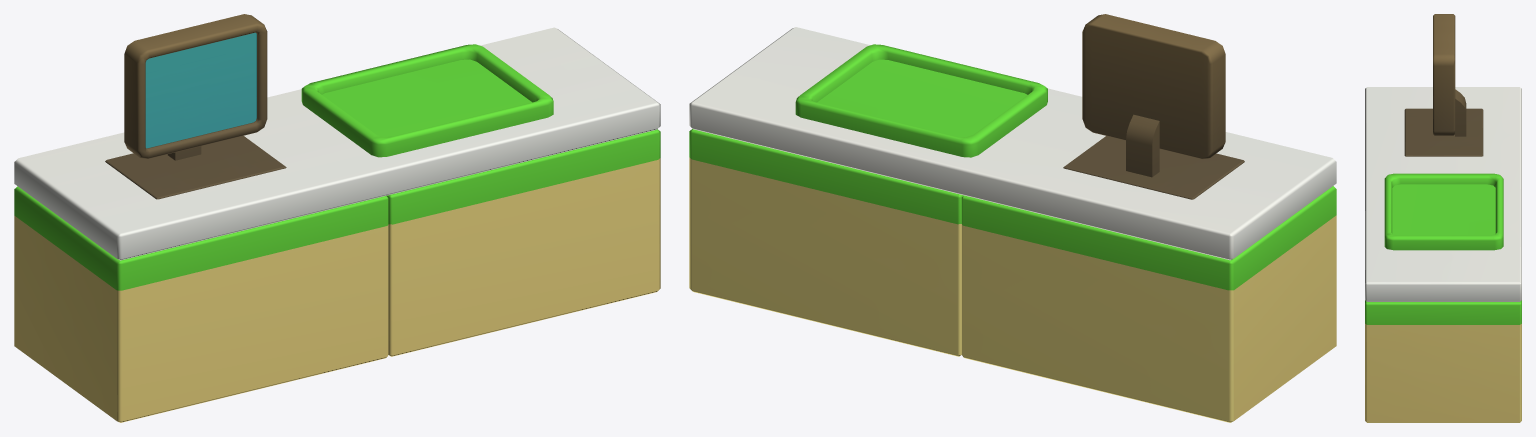
File: Table_Cashier.fbx
3 views of the same model, side by side, from view 1: azimuth 30°, elevation 25°; view 2: azimuth 150°, elevation 25°; view 3: azimuth 270°, elevation 25° (orthographic). The views are drawn at different scales.
Visible parts, largest first — view 1: Table_Cashier; view 2: Table_Cashier; view 3: Table_Cashier.
Boxes of the visible parts, x1,y1,x2,y2 form: Table_Cashier: (14,14,660,422); Table_Cashier: (689,14,1336,422); Table_Cashier: (1365,14,1521,422).
Bounding box in the file's own units: 300 × 170 × 101.
